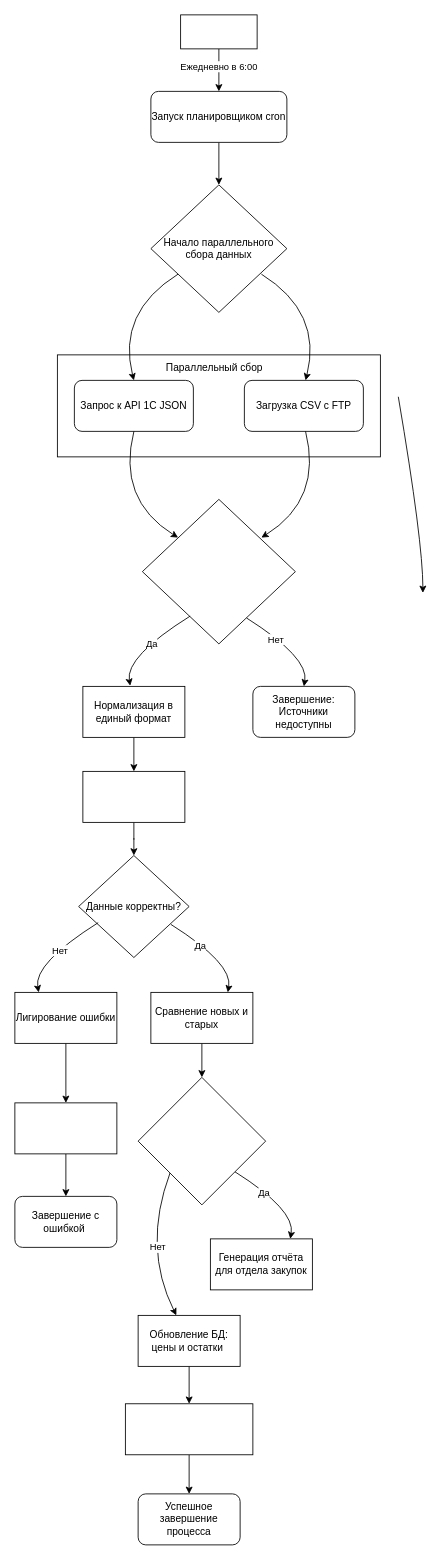
Image size: 441x1560. Some labels were removed from this diagram. Here are the shapes that lost their labels. From the top down, the centre of each, then its label:
At point (218, 31): "Начало".
At point (218, 571): "Получены данные?".
At point (133, 796): "Валидация данных".
At point (65, 1128): "Уведомление администратора".
At point (201, 1141): "Цена изменилась > 5%&".
At point (189, 1429): "Формирование лог-файла".
